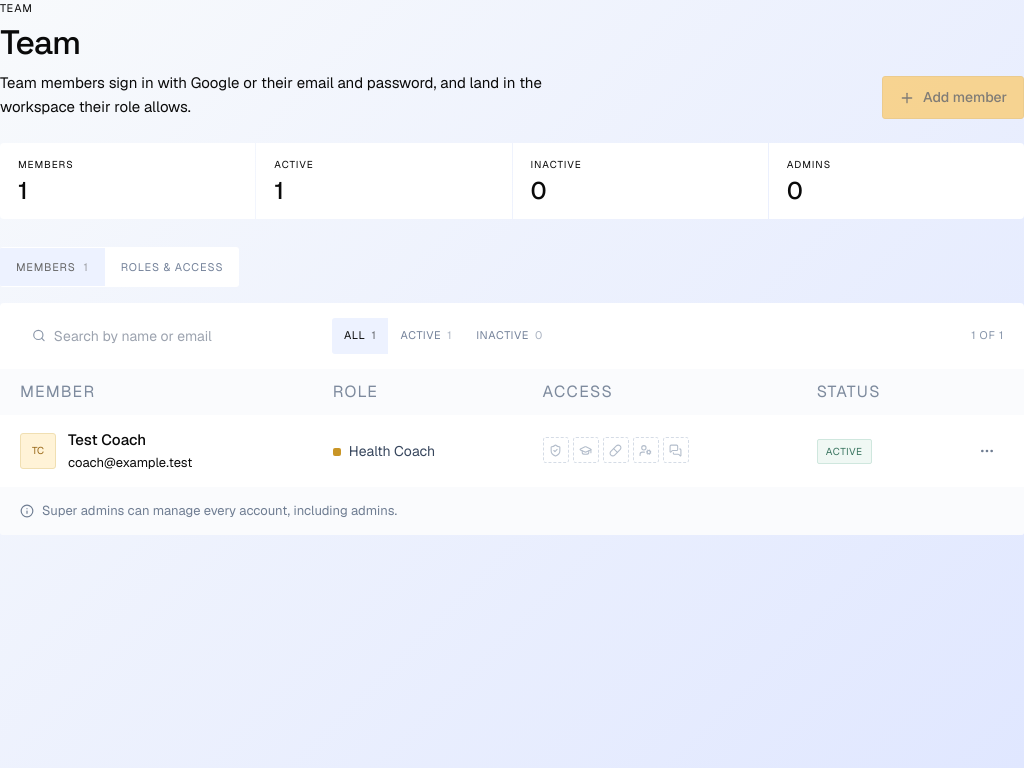
Test: member role drawer › an explicitly empty server list keeps the current label and allows name-only saves
The width and height of the screenshot is (1024, 768).
Later steps or results of the test are not shown.
What coordinates should you click on to do the following:
click the row "TC Test Coach coach@example.test Health Coach Active"
I would click on:
 (38, 451)
Its box is [0, 415, 1023, 487].
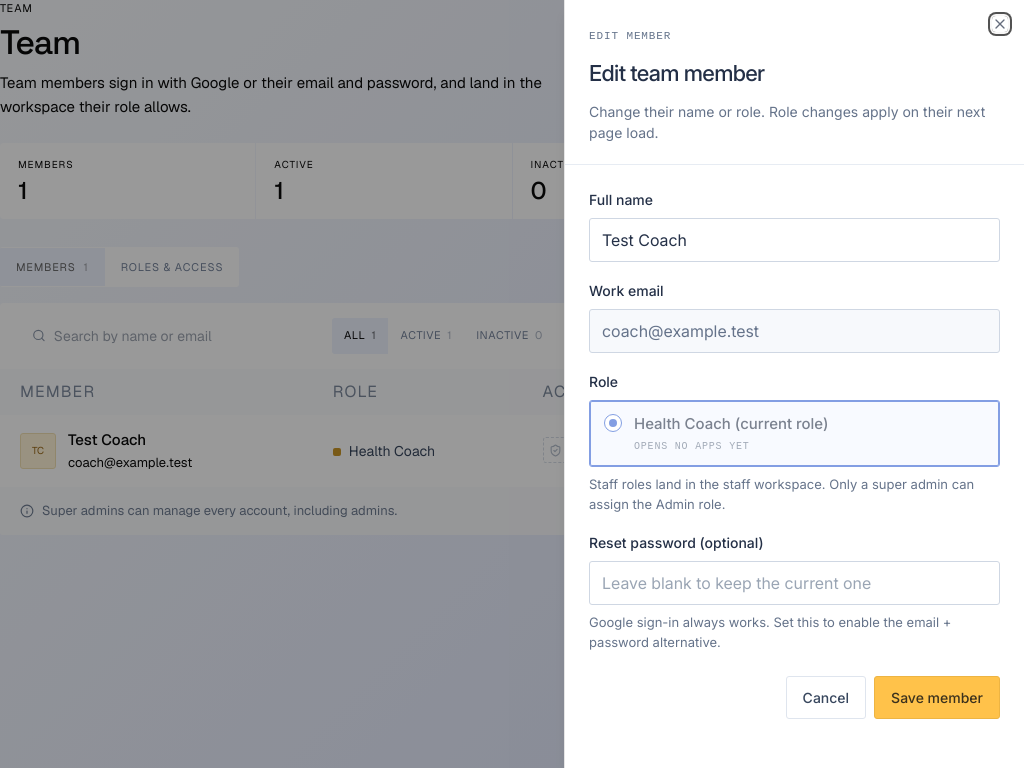
Expected: the radio button named "member-role" is disabled, [604, 414, 622, 432]
Expected: the radio button named "member-role" is checked, [604, 414, 622, 432]
